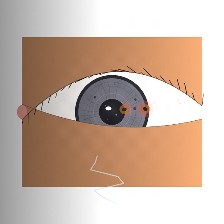foreign_body_visible: (134, 100, 157, 118)
